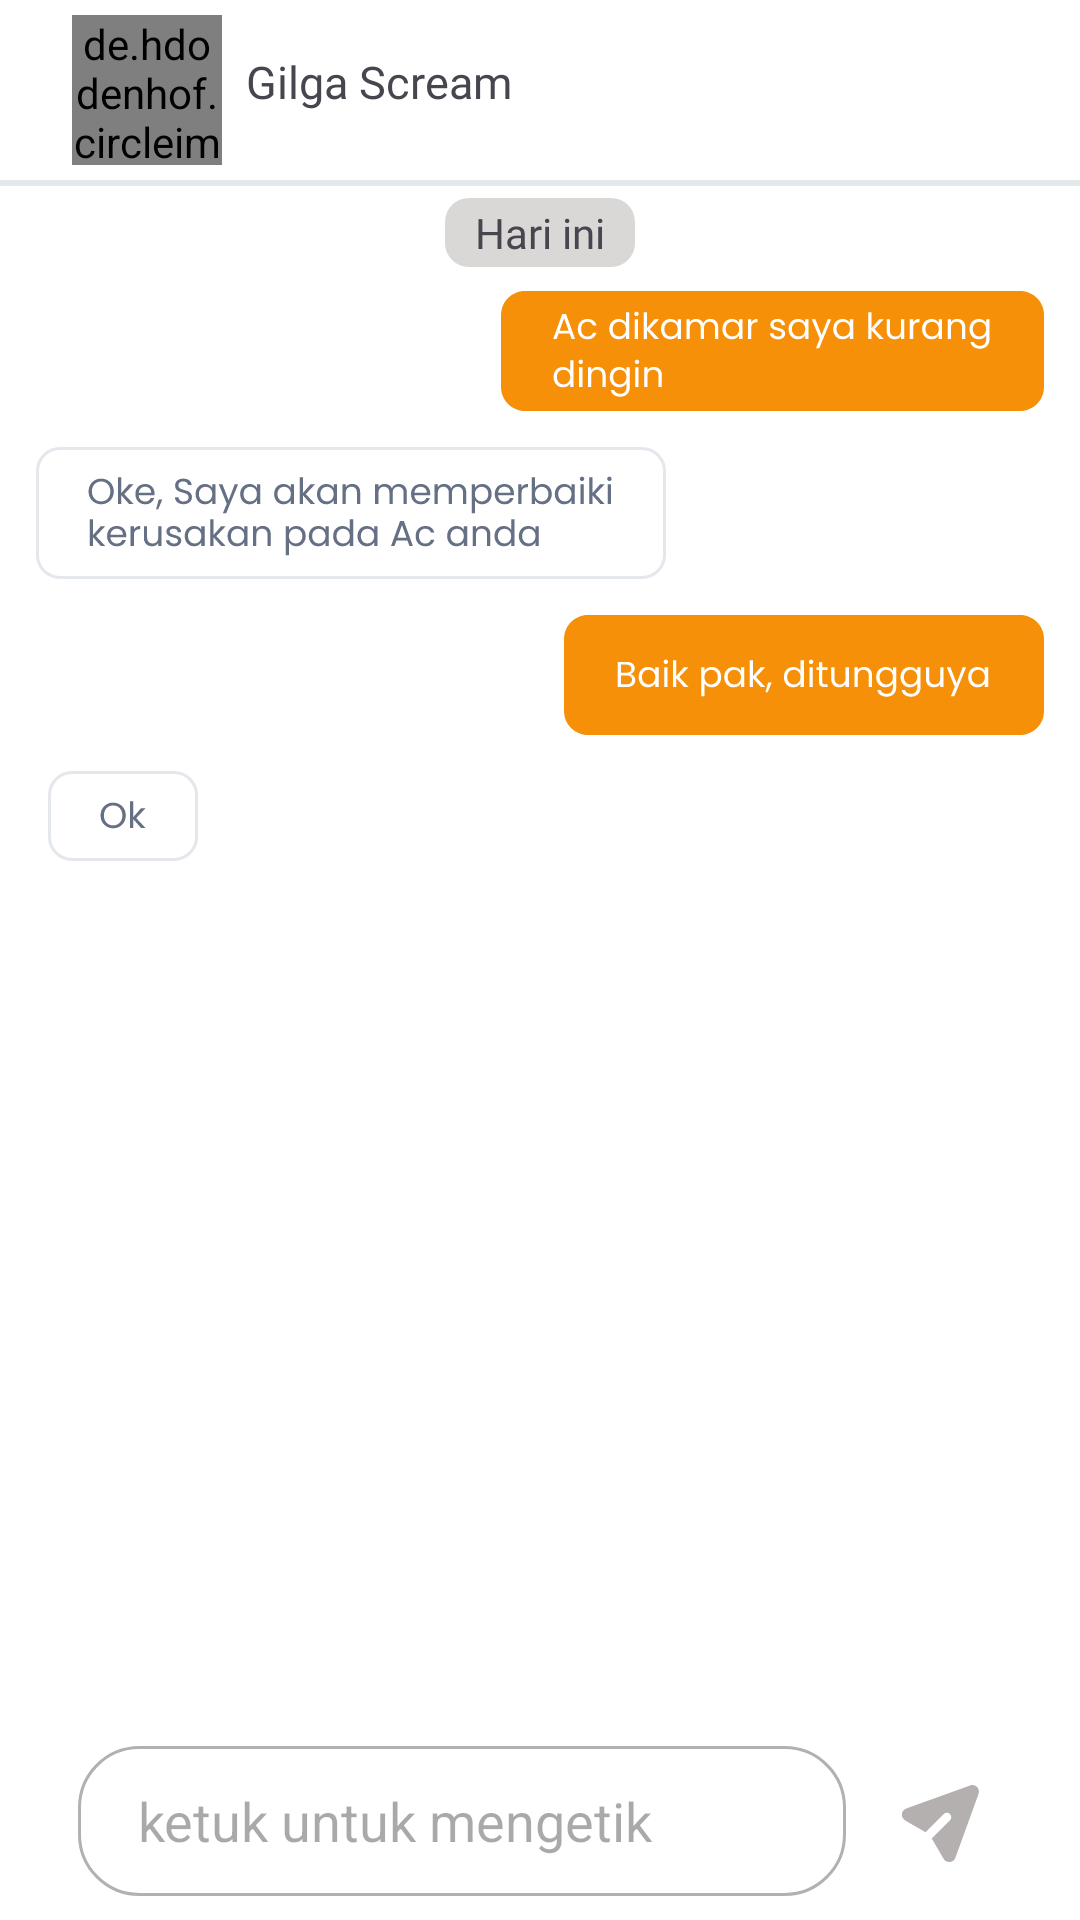

Where icons sit on this 1080×1920 app screen, as [left=x1, top=y1, right=x2, bottom=y2]:
send: [left=902, top=1785, right=979, bottom=1862]
